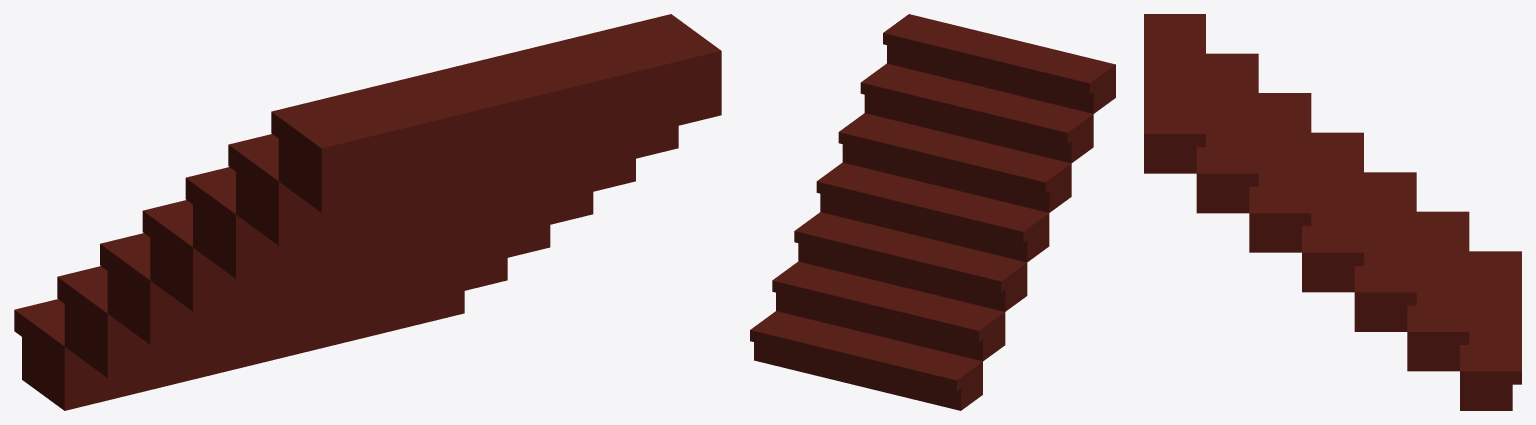
Rendered from Stairs.fbx.
The picture shows the model from 3 angles, left to right: view 1: azimuth 30°, elevation 25°; view 2: azimuth 150°, elevation 25°; view 3: azimuth 270°, elevation 25°; orthographic projection. The views are drawn at different scales.
Parts seen in each view (by area): view 1: Cube.001; view 2: Cube.001; view 3: Cube.001.
Part boxes in pixels (x1,y1,x2,y2): Cube.001: (14,14,721,410); Cube.001: (750,14,1115,410); Cube.001: (1144,14,1521,410).
Bounding box in the file's own units: 1079 × 1161 × 1435.
